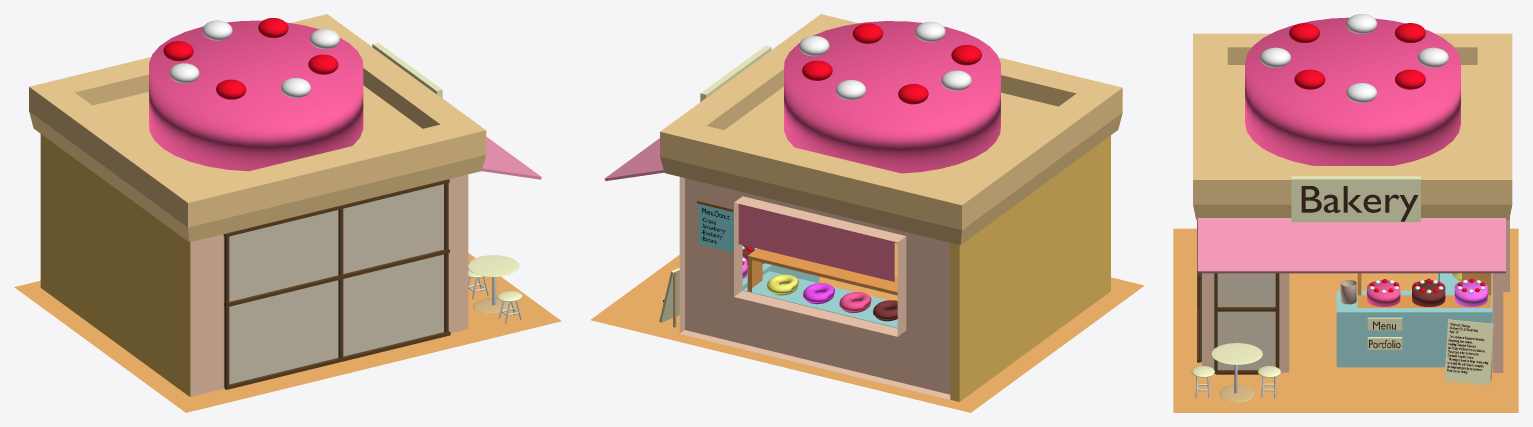
File: Bekery.glb
The picture shows the model from 3 angles, left to right: view 1: azimuth 30°, elevation 25°; view 2: azimuth 150°, elevation 25°; view 3: azimuth 270°, elevation 25°; orthographic projection.
Parts seen in each view (by area): view 1: Cube.003, Cube.038, Cube, Cylinder.024, Cube.001, Plane, Cube.005, Cube.009, Cube.041, Cube.004, Cube.006, Sphere.004 (+11 smaller); view 2: Cube.038, Cube.002, Cube.001, Cylinder.024, Plane, Plane.001, Cube.020, Cube.016, MenuDonut, Cube.041, Cube.039, About me (+12 smaller); view 3: Cube.038, Cylinder.024, Plane, Cube.041, Cube.010, Cube.022, Cube.039, Cube.023, About me, Cube.002, Text.004, Cube.003 (+20 smaller).
Part boxes in pixels (box(x1,y1,x2,y2)): Cube.003: box(190, 174, 468, 396); Cube.038: box(29, 14, 486, 242); Cube: box(224, 184, 444, 388); Cylinder.024: box(149, 20, 363, 171); Cube.001: box(40, 134, 197, 396); Plane: box(14, 253, 561, 412); Cube.005: box(224, 331, 450, 389); Cube.009: box(224, 249, 449, 307); Cube.041: box(482, 137, 541, 179); Cube.004: box(223, 179, 449, 237); Cube.006: box(224, 233, 229, 388); Sphere.004: box(468, 255, 519, 276); Cube.038: box(660, 14, 1122, 245); Cube.002: box(679, 177, 958, 401); Cube.001: box(950, 135, 1110, 401); Cylinder.024: box(784, 21, 1000, 173); Plane: box(590, 243, 1144, 412); Plane.001: box(738, 204, 894, 281); Cube.020: box(747, 248, 897, 295); Cube.016: box(743, 271, 897, 328); MenuDonut: box(698, 203, 733, 252); Cube.041: box(604, 138, 664, 180); Cube.039: box(700, 45, 771, 101); About me: box(659, 268, 679, 322); Cube.038: box(1193, 33, 1512, 219); Cylinder.024: box(1245, 17, 1460, 165); Plane: box(1173, 228, 1518, 412); Cube.041: box(1197, 218, 1505, 273); Cube.010: box(1336, 290, 1492, 367); Cube.022: box(1212, 273, 1289, 372); Cube.039: box(1291, 176, 1420, 222); Cube.023: box(1218, 273, 1275, 369); About me: box(1444, 319, 1493, 385); Cube.002: box(1492, 217, 1509, 372); Text.004: box(1301, 186, 1418, 221); Cube.003: box(1202, 273, 1212, 367).
Size of the model in its own units: 10.1 by 6.58 by 8.
